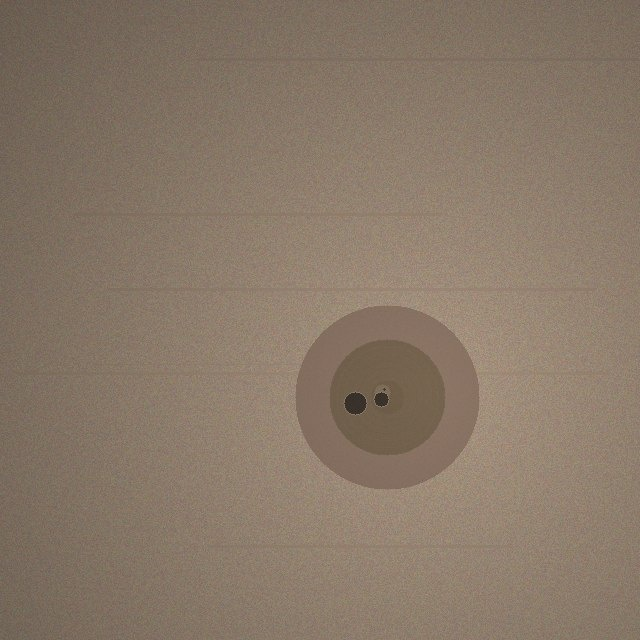shrinkage: (295, 305, 479, 489)
